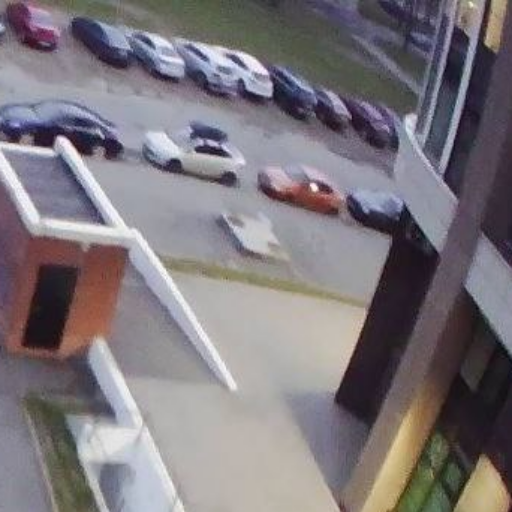Car: (0, 89, 122, 153), (143, 117, 244, 185), (255, 160, 344, 218), (167, 31, 238, 94), (124, 21, 187, 83), (69, 11, 135, 65), (212, 42, 270, 101), (261, 62, 318, 118), (344, 185, 408, 229), (5, 1, 53, 56), (339, 91, 387, 144), (310, 76, 348, 133)
